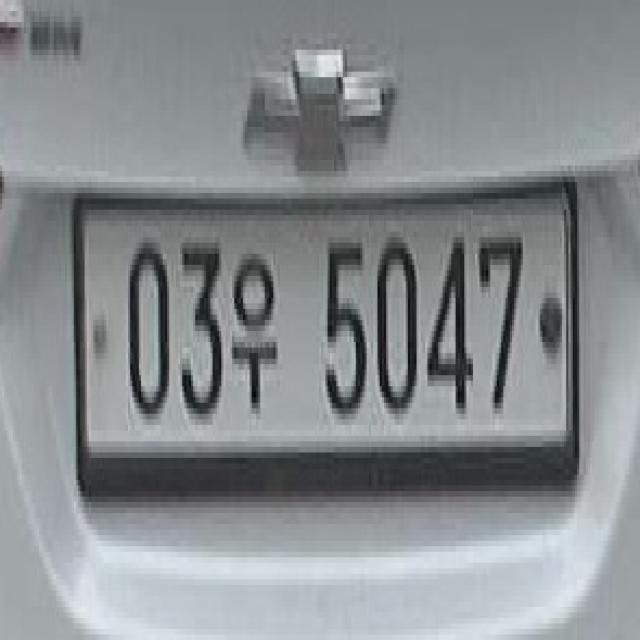0: (124, 228, 172, 432), (376, 220, 418, 434)
3: (174, 232, 226, 420)
4: (423, 220, 474, 450)
5: (320, 228, 374, 436)
7: (476, 221, 537, 427)
license_plate: (56, 180, 590, 510)
u: (230, 248, 290, 434)
